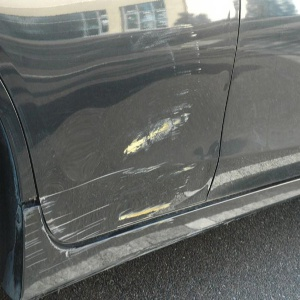door_scratch: (24, 103, 233, 271)
